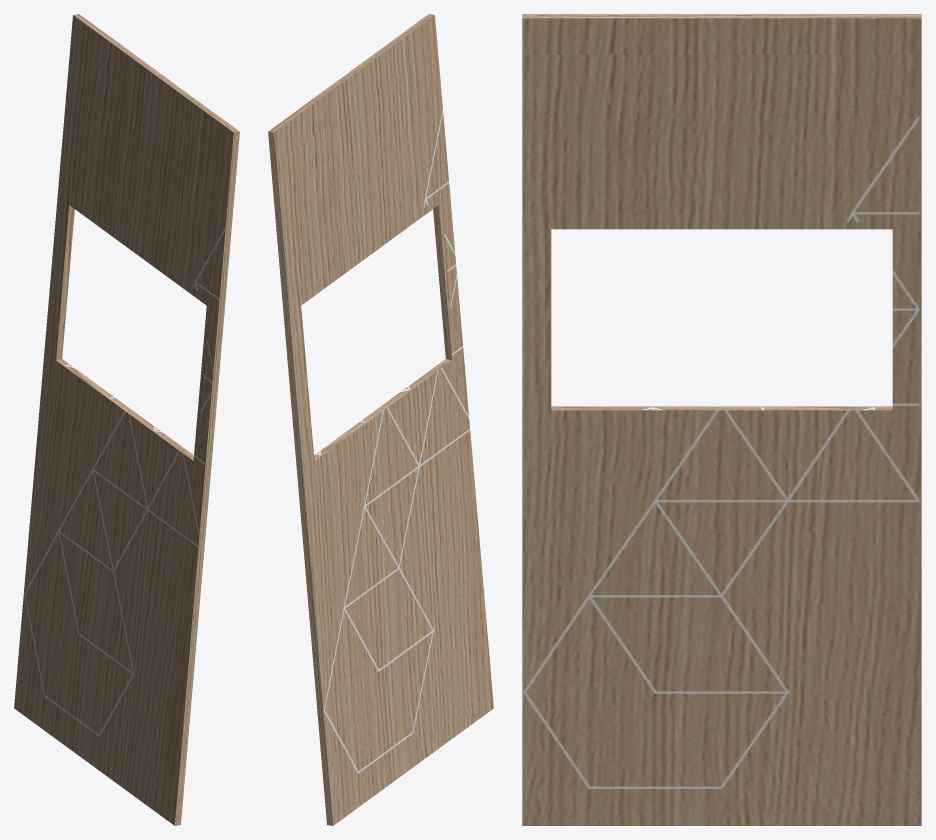
Rendered from AITHOUSA I_a_part2.fbx.
3 views of the same model, side by side, from view 1: azimuth 30°, elevation 25°; view 2: azimuth 150°, elevation 25°; view 3: azimuth 270°, elevation 25° (orthographic). The views are drawn at different scales.
Visible parts, largest first — view 1: Mass Element <Standard> Body; view 2: Mass Element <Standard> Body; view 3: Mass Element <Standard> Body.
Part boxes in pixels (x1,y1,x2,y2): Mass Element <Standard> Body: (14,14,239,825); Mass Element <Standard> Body: (268,14,493,825); Mass Element <Standard> Body: (522,14,921,825).
Size of the model in its own units: 0.2106 by 2.1 by 0.9.
1 material, 1 textured.
